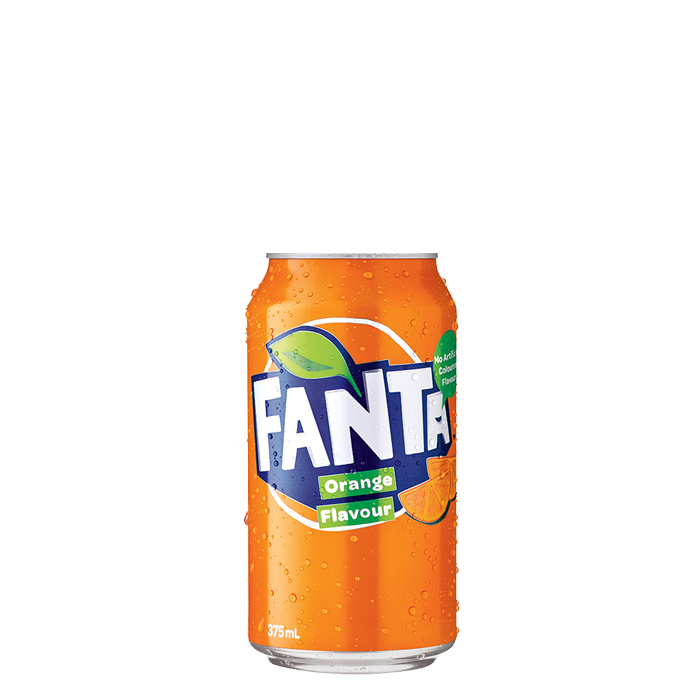fanta_can: (243, 250, 462, 675)
